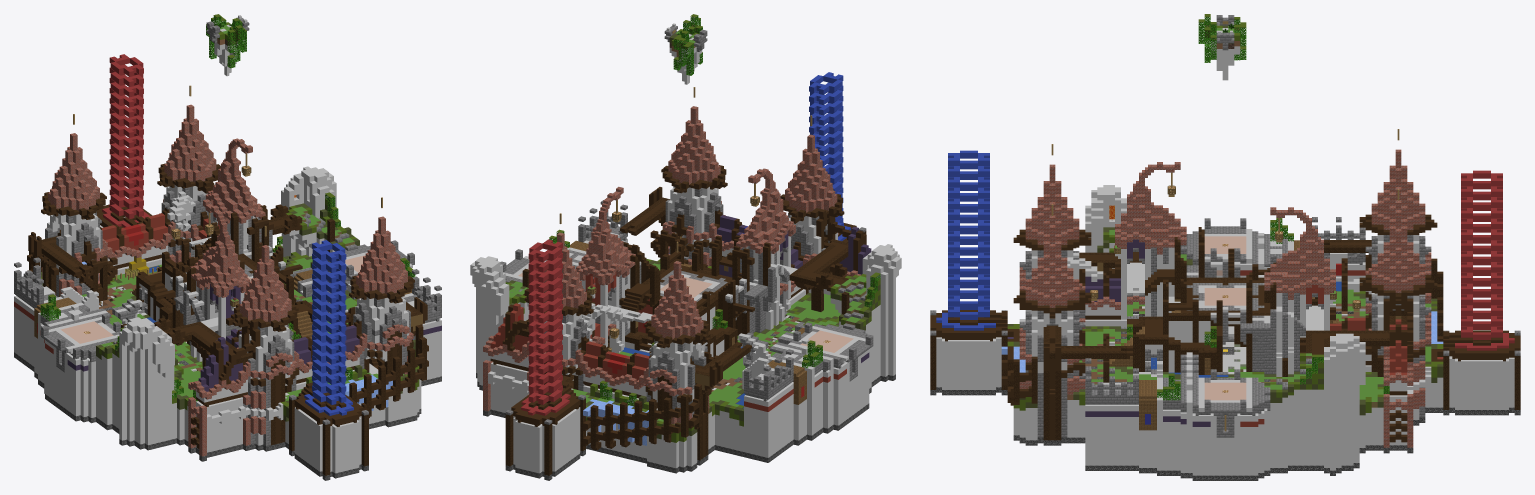
File: minecraft.obj
3 renders of one model, left to right at view 1: azimuth 30°, elevation 25°; view 2: azimuth 150°, elevation 25°; view 3: azimuth 270°, elevation 25°, orthographic. The views are drawn at different scales.
Size of the model in its own units: 73 by 70.06 by 99.
